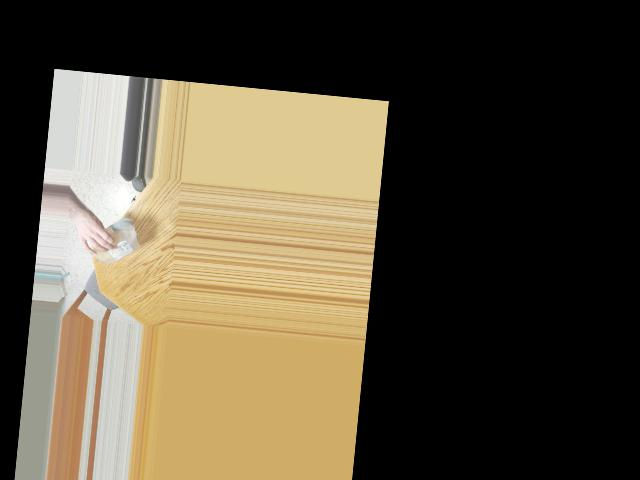cheese: (81, 217, 140, 268)
